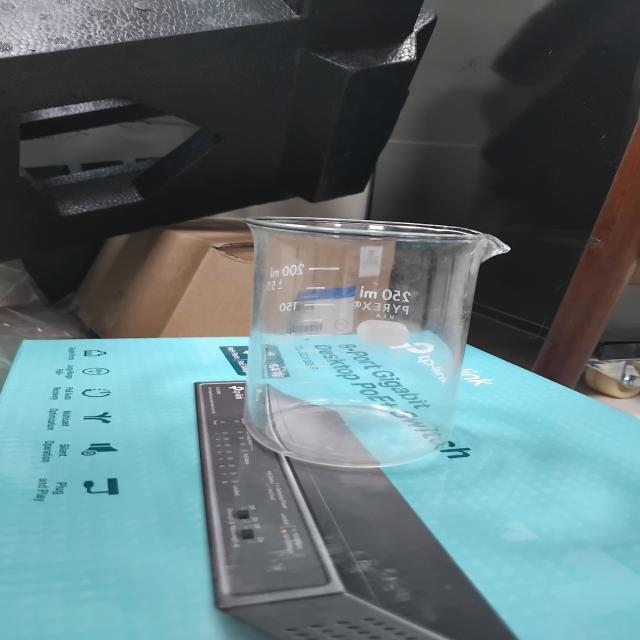Beaker: (200, 179, 516, 496)
